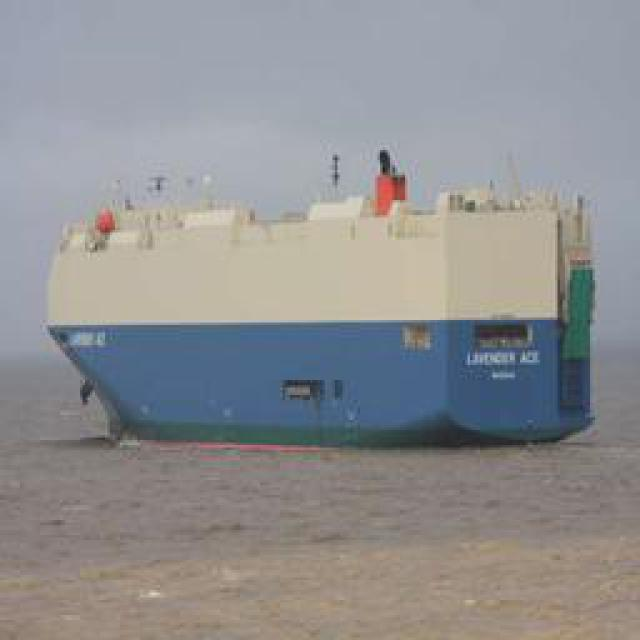Ship: (46, 172, 619, 442)
